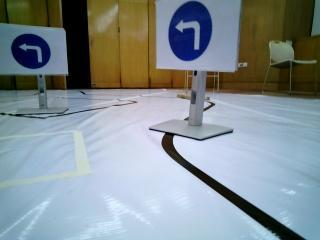left: (159, 2, 232, 70), (0, 29, 59, 70)
